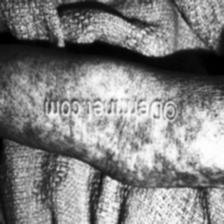Unclassified: (116, 120, 153, 160), (178, 140, 204, 180)
